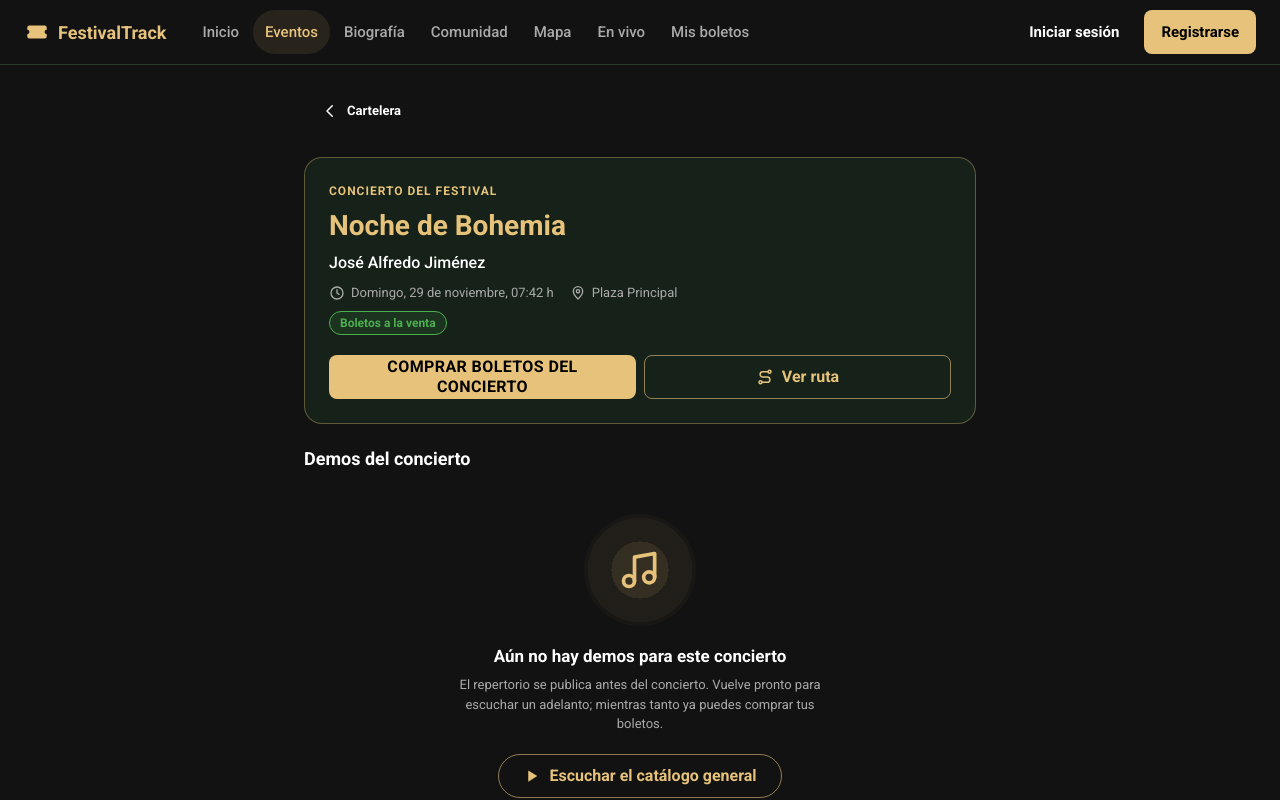
Test: detalle de concierto (/events/:id) › sin repertorio muestra el vacío y ofrece el catálogo general (solo lo publicado)
The width and height of the screenshot is (1280, 800).
Expected: the heading "Aún no hay demos para este concierto" is shown, top-left (494, 646), bottom-right (786, 667)
Expected: the link "Comprar boletos del concierto" is shown, top-left (329, 354), bottom-right (636, 398)
Click the button "Escuchar el catálogo general" at (640, 776), box top-left (498, 754), bottom-right (782, 798)
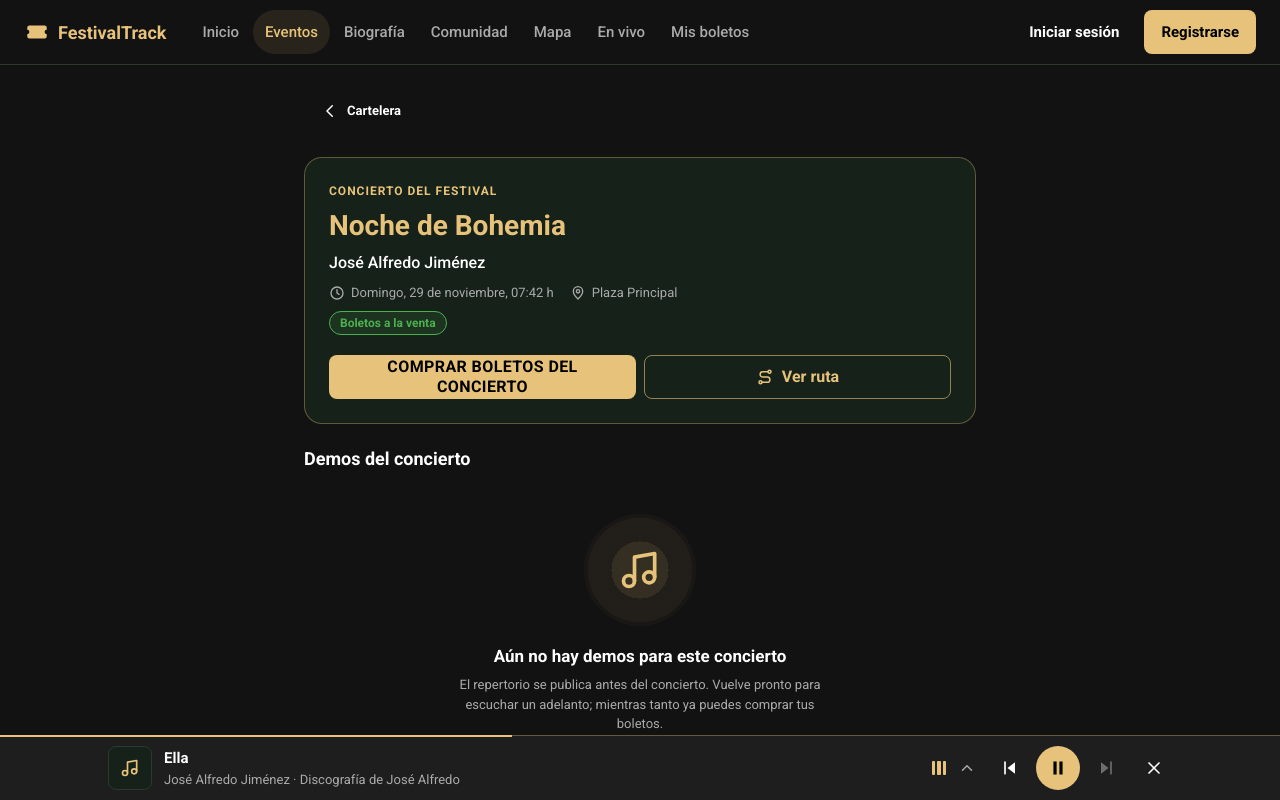
Expected: the text "Ella" is shown, top-left (164, 749), bottom-right (188, 767)
Expected: the text "José Alfredo Jiménez · Discografía de José Alfredo" is shown, top-left (164, 772), bottom-right (460, 786)
Click the button with aria-label "Abrir el reproductor" at (130, 768), box top-left (104, 746), bottom-right (980, 790)
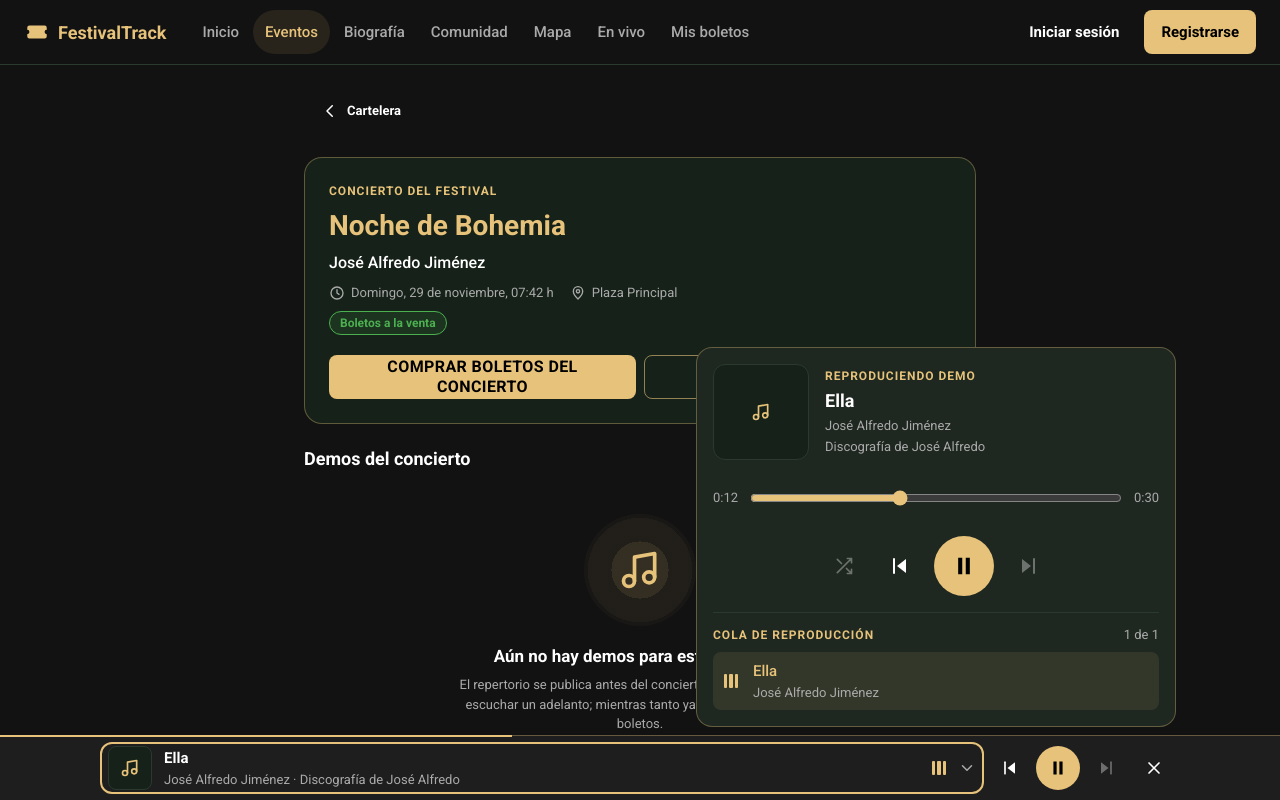
Expected: the text "1 de 1" is shown, top-left (1124, 624), bottom-right (1159, 644)
